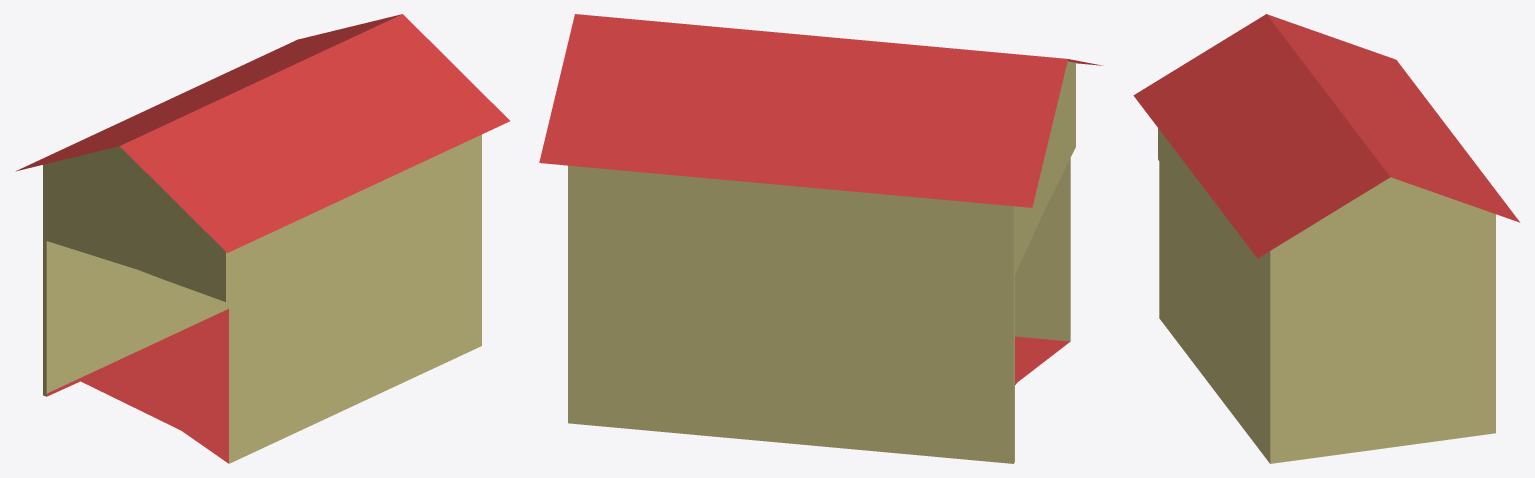
3 renders of one model, left to right at view 1: azimuth 30°, elevation 25°; view 2: azimuth 150°, elevation 25°; view 3: azimuth 270°, elevation 25°, orthographic. The views are drawn at different scales.
Visible parts, largest first — view 1: group_5, group_3, group_6, group_4; view 2: group_5, group_3, group_4, group_6; view 3: group_5, group_3, group_4.
Part boxes in pixels (bbox=[...]): group_5: bbox=[43, 134, 481, 463]; group_3: bbox=[44, 14, 481, 252]; group_6: bbox=[46, 309, 228, 463]; group_4: bbox=[15, 14, 509, 252]; group_5: bbox=[568, 61, 1075, 463]; group_3: bbox=[539, 14, 1067, 207]; group_4: bbox=[542, 59, 1103, 207]; group_6: bbox=[1015, 336, 1069, 384]; group_5: bbox=[1158, 128, 1495, 463]; group_3: bbox=[1133, 14, 1520, 257]; group_4: bbox=[1134, 14, 1519, 258].
Bounding box in the file's own units: 18.11 × 14.9 × 11.84.
